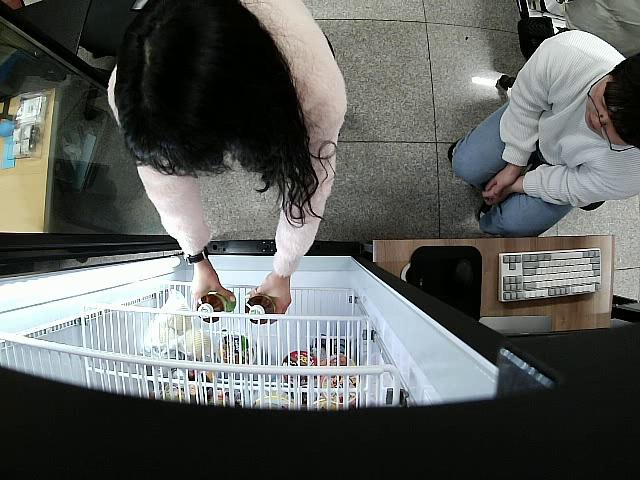00_hand: (243, 278, 292, 325), (189, 272, 235, 306)
19_17cha: (195, 289, 236, 321), (244, 293, 276, 325)
